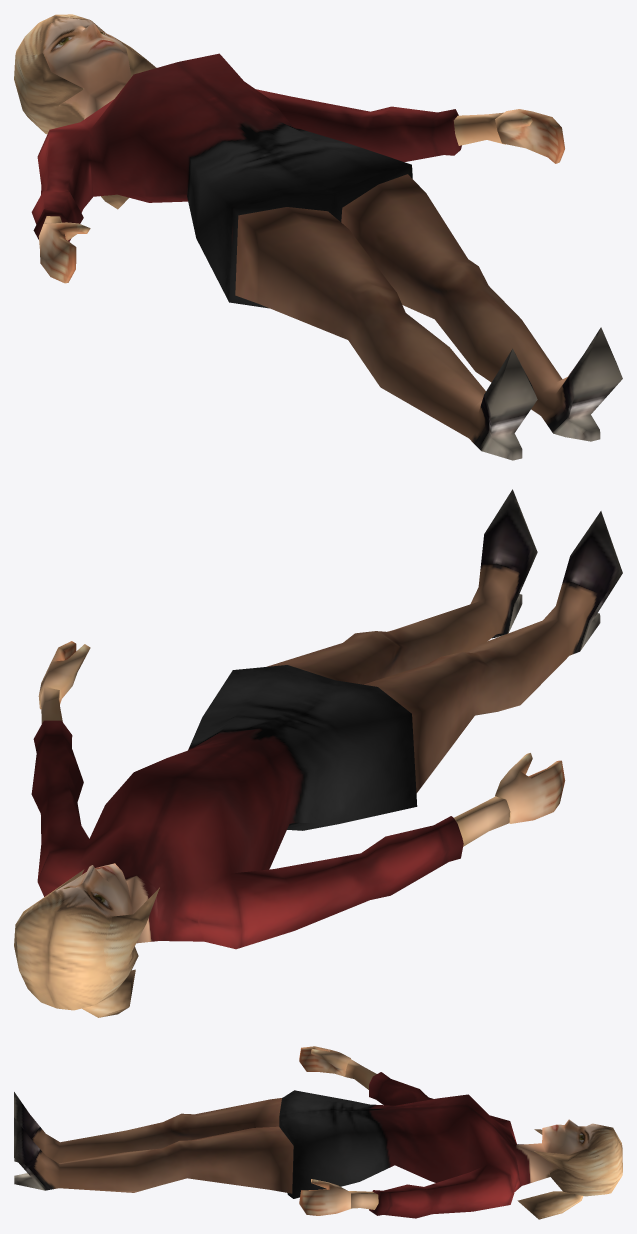
File: female_secretary_character_psx.obj
The picture shows the model from 3 angles, top to bottom: view 1: azimuth 30°, elevation 25°; view 2: azimuth 150°, elevation 25°; view 3: azimuth 270°, elevation 25°; orthographic projection. The views are drawn at different scales.
Parts seen in each view (by area): view 1: obj1; view 2: obj1; view 3: obj1.
Part boxes in pixels (<box>): obj1: <box>14,14,622,460</box>; obj1: <box>14,489,622,1017</box>; obj1: <box>14,1046,622,1219</box>.
Size of the model in its own units: 0.9431 by 0.3458 by 1.65.
Materials: 1 (1 with a texture image).
